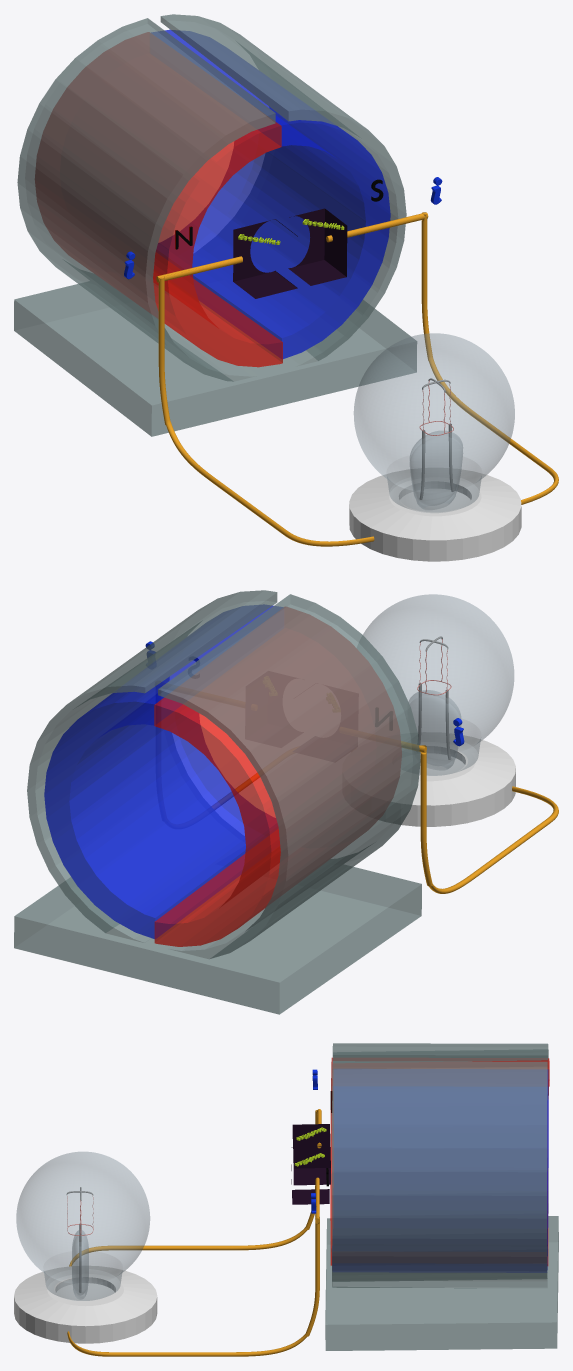
Rendered from MotorElectrico.dae.
3 renders of one model, top to bottom at view 1: azimuth 30°, elevation 25°; view 2: azimuth 150°, elevation 25°; view 3: azimuth 270°, elevation 25°, orthographic. The views are drawn at different scales.
Parts seen in each view (by area): view 1: Cubierta, ImanPolNeg.001, ImanPolNeg, foco, Cylinder, Cilindro.013, Sphere.002, Cubo.002, Cilindro.014, Sphere.001, Cubo.003; view 2: Cubierta, ImanPolNeg.001, ImanPolNeg, foco, Cylinder, Sphere.002, Cilindro.013, Sphere.001; view 3: Cubierta, ImanPolNeg, foco, Cylinder, ImanPolNeg.001, Cubo.003, Cilindro.014, Cilindro.013, Sphere.002, Sphere.001, Cubo.002.
Part boxes in pixels (bbox=[...]): Cubierta: bbox=[14, 14, 416, 436]; ImanPolNeg.001: bbox=[35, 32, 282, 367]; ImanPolNeg: bbox=[152, 29, 390, 358]; foco: bbox=[354, 333, 514, 512]; Cylinder: bbox=[349, 468, 521, 561]; Cilindro.013: bbox=[156, 256, 374, 546]; Sphere.002: bbox=[410, 431, 462, 505]; Cubo.002: bbox=[288, 208, 347, 285]; Cilindro.014: bbox=[326, 212, 558, 504]; Sphere.001: bbox=[410, 436, 462, 509]; Cubo.003: bbox=[233, 219, 297, 298]; Cubierta: bbox=[14, 590, 421, 1014]; ImanPolNeg.001: bbox=[154, 607, 401, 946]; ImanPolNeg: bbox=[44, 605, 282, 938]; foco: bbox=[363, 594, 513, 775]; Cylinder: bbox=[379, 732, 515, 826]; Sphere.002: bbox=[409, 690, 460, 765]; Cilindro.013: bbox=[401, 741, 558, 893]; Sphere.001: bbox=[410, 696, 460, 769]; Cubierta: bbox=[325, 1043, 558, 1350]; ImanPolNeg: bbox=[333, 1069, 548, 1272]; foco: bbox=[16, 1152, 149, 1300]; Cylinder: bbox=[14, 1265, 157, 1343]; ImanPolNeg.001: bbox=[330, 1057, 549, 1265]; Cubo.003: bbox=[292, 1124, 330, 1185]; Cilindro.014: bbox=[67, 1177, 319, 1356]; Cilindro.013: bbox=[69, 1109, 321, 1266]; Sphere.002: bbox=[72, 1230, 88, 1295]; Sphere.001: bbox=[72, 1236, 88, 1299]; Cubo.002: bbox=[291, 1146, 329, 1204].
Size of the model in its own units: 2.62 by 4.73 by 2.44.
